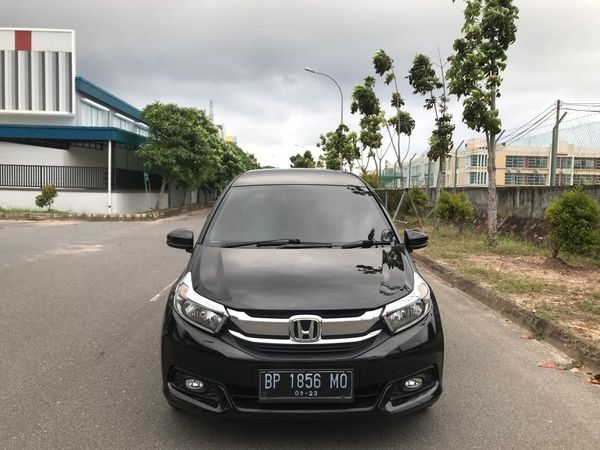plate: (254, 366, 360, 402)
